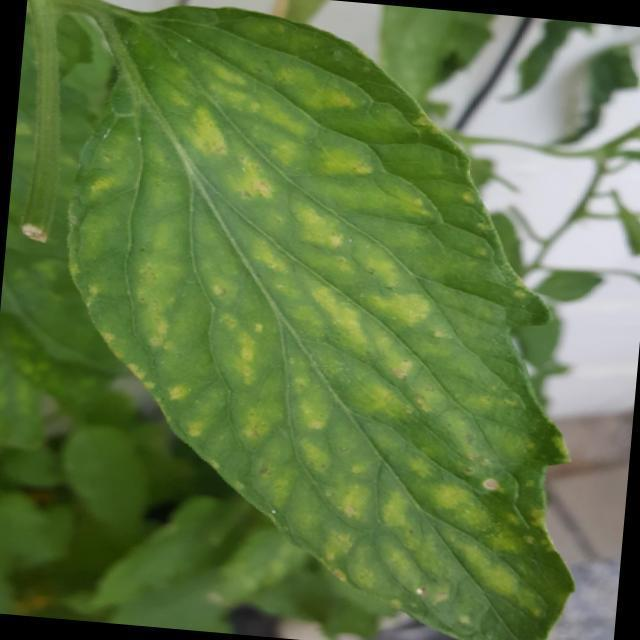Mosaic Virus: (77, 25, 596, 640)
